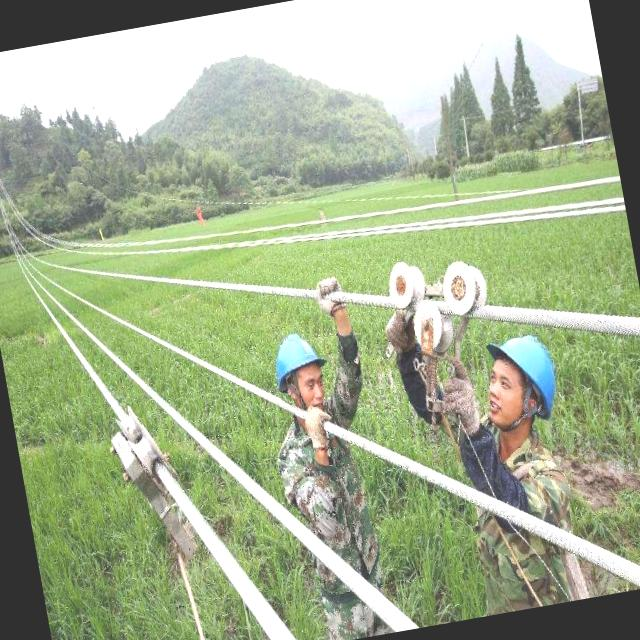helmet: (492, 326, 566, 424), (266, 332, 331, 402)
no-goggles: (477, 359, 519, 402), (292, 366, 332, 391)
no-vest: (272, 409, 389, 602)
